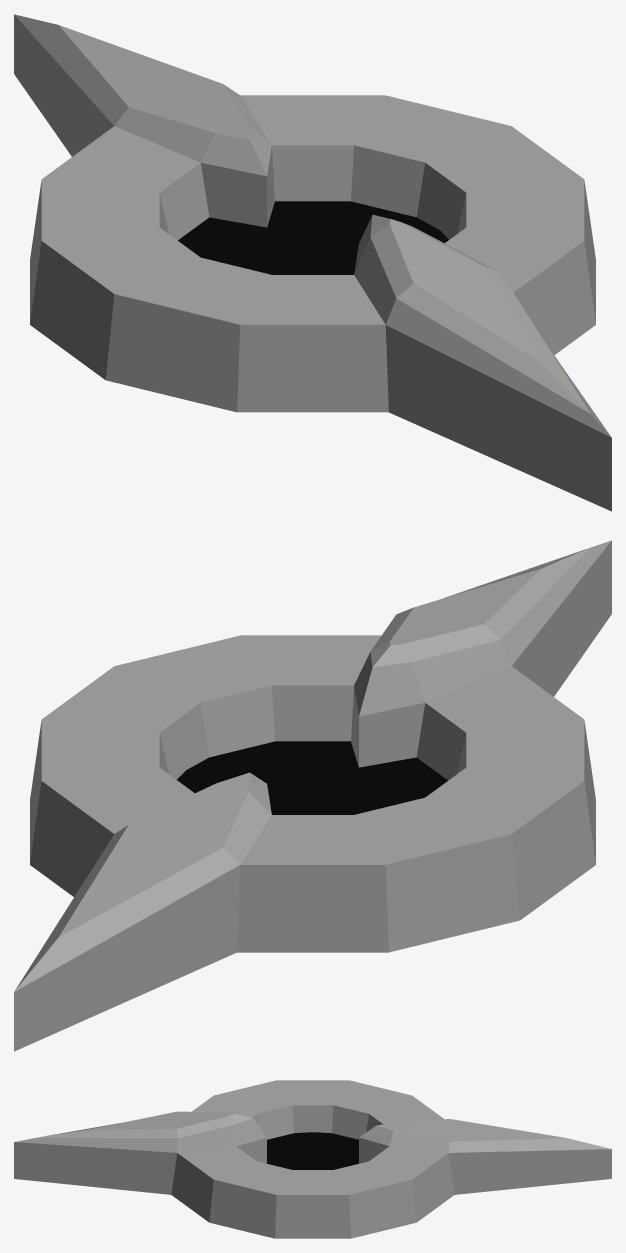
The model's file is SingleSpikeMetalTrap_1.fbx.
3 views of the same model, one above another, from view 1: azimuth 30°, elevation 25°; view 2: azimuth 150°, elevation 25°; view 3: azimuth 270°, elevation 25° (orthographic). The views are drawn at different scales.
Parts seen in each view (by area): view 1: SingleSpikeMetalTrap_1; view 2: SingleSpikeMetalTrap_1; view 3: SingleSpikeMetalTrap_1.
Boxes of the visible parts, left/top/right/bottom form: SingleSpikeMetalTrap_1: left=14, top=14, right=611, bottom=511; SingleSpikeMetalTrap_1: left=14, top=540, right=611, bottom=1051; SingleSpikeMetalTrap_1: left=14, top=1080, right=611, bottom=1238.
Size of the model in its own units: 18.3 by 4.66 by 38.65.
